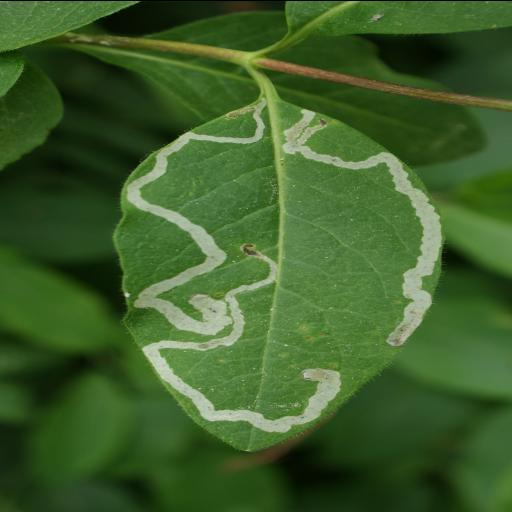Leaf Miner: (114, 100, 446, 450)
